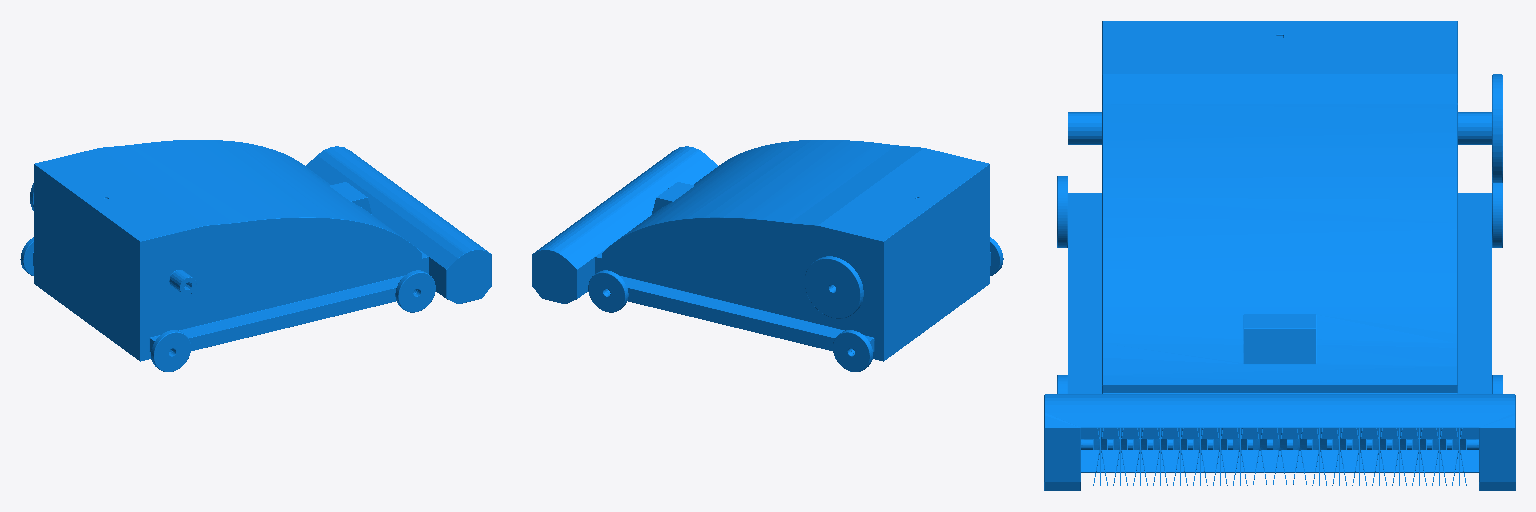
robot.urdf — tracked_mower:
<?xml version="1.0" ?>
<!-- =================================================================================== -->
<!-- |    This document was autogenerated by xacro from src/mower_bot_description/urdf/robot.urdf.xacro | -->
<!-- |    EDITING THIS FILE BY HAND IS NOT RECOMMENDED                                 | -->
<!-- =================================================================================== -->
<robot name="tracked_mower">
  <link name="base_footprint"/>
  <joint name="base_joint" type="fixed">
    <parent link="base_footprint"/>
    <child link="base_link"/>
    <origin rpy="0 0 0" xyz="0 0 0.15"/>
  </joint>
  <link name="base_link">
    <visual name="base_visual">
      <origin xyz="0 0 0"/>
      <geometry>
        <!--box size="${base_x} ${base_y} ${base_z}"/-->
        <mesh filename="package://mower_bot_description/meshes/Car.stl"/>
      </geometry>
      <material name="color">
        <color rgba="0.1 0.6 1.0 1.0"/>
      </material>
    </visual>
    <collision>
      <geometry>
        <box size="0.5 0.24 0.14"/>
      </geometry>
    </collision>
    <inertial>
      <mass value="13.14"/>
      <inertia ixx="0.084534" ixy="0" ixz="0" iyy="0.295212" iyz="0" izz="0.33682199999999995"/>
    </inertial>
  </link>
  <link name="front_left_wheel">
    <visual>
      <geometry>
        <cylinder length="0.05" radius="0.05"/>
      </geometry>
      <material name="transparent">
        <color rgba="0 0 1 0.3"/>
      </material>
    </visual>
    <collision>
      <geometry>
        <sphere radius="0.05"/>
      </geometry>
      <surface>
        <friction>
          <ode>
            <mu>0.0</mu>
            <mu2>0.0</mu2>
            <slip1>1.0</slip1>
            <slip2>1.0</slip2>
          </ode>
        </friction>
      </surface>
    </collision>
    <inertial>
      <mass value="0.5"/>
      <inertia ixx="0.001" ixy="0" ixz="0" iyy="0.001" iyz="0" izz="0.001"/>
    </inertial>
  </link>
  <joint name="front_left_wheel_joint" type="continuous">
    <parent link="base_link"/>
    <child link="front_left_wheel"/>
    <origin rpy="-1.5708 0 0" xyz="0.2 0.2 -0.1"/>
    <axis xyz="0 0 1"/>
  </joint>
  <link name="mid_left_wheel">
    <visual>
      <geometry>
        <cylinder length="0.05" radius="0.05"/>
      </geometry>
      <material name="transparent">
        <color rgba="0 0 1 0.3"/>
      </material>
    </visual>
    <collision>
      <geometry>
        <sphere radius="0.05"/>
      </geometry>
      <surface>
        <friction>
          <ode>
            <mu>0.0</mu>
            <mu2>0.0</mu2>
            <slip1>1.0</slip1>
            <slip2>1.0</slip2>
          </ode>
        </friction>
      </surface>
    </collision>
    <inertial>
      <mass value="0.5"/>
      <inertia ixx="0.001" ixy="0" ixz="0" iyy="0.001" iyz="0" izz="0.001"/>
    </inertial>
  </link>
  <joint name="mid_left_wheel_joint" type="continuous">
    <parent link="base_link"/>
    <child link="mid_left_wheel"/>
    <origin rpy="-1.5708 0 0" xyz="0.0 0.2 -0.1"/>
    <axis xyz="0 0 1"/>
  </joint>
  <link name="rear_left_wheel">
    <visual>
      <geometry>
        <cylinder length="0.05" radius="0.05"/>
      </geometry>
      <material name="transparent">
        <color rgba="1 0 0 0.3"/>
      </material>
    </visual>
    <collision>
      <geometry>
        <cylinder length="0.05" radius="0.05"/>
      </geometry>
      <surface>
        <friction>
          <ode>
            <mu>2.0</mu>
            <mu2>0.5</mu2>
            <fdir1>1 0 0</fdir1>
            <slip1>0.0</slip1>
            <slip2>0.0</slip2>
          </ode>
        </friction>
        <contact>
          <ode>
            <kp>10000000.0</kp>
            <kd>1.0</kd>
          </ode>
        </contact>
      </surface>
    </collision>
    <inertial>
      <mass value="2.0"/>
      <inertia ixx="0.01" ixy="0" ixz="0" iyy="0.01" iyz="0" izz="0.01"/>
    </inertial>
  </link>
  <joint name="rear_left_wheel_joint" type="continuous">
    <parent link="base_link"/>
    <child link="rear_left_wheel"/>
    <origin rpy="-1.5708 0 0" xyz="-0.2 0.2 -0.1"/>
    <axis xyz="0 0 1"/>
  </joint>
  <link name="front_right_wheel">
    <visual>
      <geometry>
        <cylinder length="0.05" radius="0.05"/>
      </geometry>
      <material name="transparent">
        <color rgba="0 0 1 0.3"/>
      </material>
    </visual>
    <collision>
      <geometry>
        <sphere radius="0.05"/>
      </geometry>
      <surface>
        <friction>
          <ode>
            <mu>0.0</mu>
            <mu2>0.0</mu2>
            <slip1>1.0</slip1>
            <slip2>1.0</slip2>
          </ode>
        </friction>
      </surface>
    </collision>
    <inertial>
      <mass value="0.5"/>
      <inertia ixx="0.001" ixy="0" ixz="0" iyy="0.001" iyz="0" izz="0.001"/>
    </inertial>
  </link>
  <joint name="front_right_wheel_joint" type="continuous">
    <parent link="base_link"/>
    <child link="front_right_wheel"/>
    <origin rpy="-1.5708 0 0" xyz="0.2 -0.2 -0.1"/>
    <axis xyz="0 0 1"/>
  </joint>
  <link name="mid_right_wheel">
    <visual>
      <geometry>
        <cylinder length="0.05" radius="0.05"/>
      </geometry>
      <material name="transparent">
        <color rgba="0 0 1 0.3"/>
      </material>
    </visual>
    <collision>
      <geometry>
        <sphere radius="0.05"/>
      </geometry>
      <surface>
        <friction>
          <ode>
            <mu>0.0</mu>
            <mu2>0.0</mu2>
            <slip1>1.0</slip1>
            <slip2>1.0</slip2>
          </ode>
        </friction>
      </surface>
    </collision>
    <inertial>
      <mass value="0.5"/>
      <inertia ixx="0.001" ixy="0" ixz="0" iyy="0.001" iyz="0" izz="0.001"/>
    </inertial>
  </link>
  <joint name="mid_right_wheel_joint" type="continuous">
    <parent link="base_link"/>
    <child link="mid_right_wheel"/>
    <origin rpy="-1.5708 0 0" xyz="0.0 -0.2 -0.1"/>
    <axis xyz="0 0 1"/>
  </joint>
  <link name="rear_right_wheel">
    <visual>
      <geometry>
        <cylinder length="0.05" radius="0.05"/>
      </geometry>
      <material name="transparent">
        <color rgba="1 0 0 0.3"/>
      </material>
    </visual>
    <collision>
      <geometry>
        <cylinder length="0.05" radius="0.05"/>
      </geometry>
      <surface>
        <friction>
          <ode>
            <mu>2.0</mu>
            <mu2>0.5</mu2>
            <fdir1>1 0 0</fdir1>
            <slip1>0.0</slip1>
            <slip2>0.0</slip2>
          </ode>
        </friction>
        <contact>
          <ode>
            <kp>10000000.0</kp>
            <kd>1.0</kd>
          </ode>
        </contact>
      </surface>
    </collision>
    <inertial>
      <mass value="2.0"/>
      <inertia ixx="0.01" ixy="0" ixz="0" iyy="0.01" iyz="0" izz="0.01"/>
    </inertial>
  </link>
  <joint name="rear_right_wheel_joint" type="continuous">
    <parent link="base_link"/>
    <child link="rear_right_wheel"/>
    <origin rpy="-1.5708 0 0" xyz="-0.2 -0.2 -0.1"/>
    <axis xyz="0 0 1"/>
  </joint>
  <link name="left_track_visual">
    <visual>
      <geometry>
        <box size="0.5 0.1 0.18"/>
      </geometry>
      <material name="black">
        <color rgba="0.1 0.1 0.1 1.0"/>
      </material>
    </visual>
    <collision>
      <origin xyz="0 0 0.05"/>
      <geometry>
        <box size="0.5 0.1 0.15"/>
      </geometry>
    </collision>
    <inertial>
      <mass value="2.0"/>
      <inertia ixx="0.01" ixy="0" ixz="0" iyy="0.01" iyz="0" izz="0.01"/>
    </inertial>
  </link>
  <joint name="left_track_joint" type="fixed">
    <parent link="base_link"/>
    <child link="left_track_visual"/>
    <origin rpy="0 0 0" xyz="0 0.2 0"/>
  </joint>
  <link name="right_track_visual">
    <visual>
      <geometry>
        <box size="0.5 0.1 0.18"/>
      </geometry>
      <material name="black">
        <color rgba="0.1 0.1 0.1 1.0"/>
      </material>
    </visual>
    <collision>
      <origin xyz="0 0 0.05"/>
      <geometry>
        <box size="0.5 0.1 0.15"/>
      </geometry>
    </collision>
    <inertial>
      <mass value="2.0"/>
      <inertia ixx="0.01" ixy="0" ixz="0" iyy="0.01" iyz="0" izz="0.01"/>
    </inertial>
  </link>
  <joint name="right_track_joint" type="fixed">
    <parent link="base_link"/>
    <child link="right_track_visual"/>
    <origin rpy="0 0 0" xyz="0 -0.2 0"/>
  </joint>
  <link name="lidar_link">
    <visual>
      <geometry>
        <cylinder length="0.04" radius="0.05"/>
      </geometry>
      <material name="red">
        <color rgba="1 0 0 1.0"/>
      </material>
    </visual>
    <collision>
      <geometry>
        <cylinder length="0.04" radius="0.05"/>
      </geometry>
    </collision>
    <inertial>
      <mass value="0.1"/>
      <inertia ixx="0.0001" ixy="0" ixz="0" iyy="0.0001" iyz="0" izz="0.0001"/>
    </inertial>
  </link>
  <joint name="lidar_mount_joint" type="fixed">
    <parent link="base_link"/>
    <child link="lidar_link"/>
    <origin rpy="0 0 0" xyz="0.1 0 0.15"/>
  </joint>
  <link name="laser_frame">
    <visual>
      <geometry>
        <box size="0.01 0.01 0.01"/>
      </geometry>
      <material name="black"/>
    </visual>
  </link>
  <joint name="laser_joint" type="fixed">
    <parent link="lidar_link"/>
    <child link="laser_frame"/>
    <origin rpy="0 0 0" xyz="0 0 0.03"/>
  </joint>
  <link name="imu_link"/>
  <joint name="imu_joint" type="fixed">
    <parent link="base_link"/>
    <child link="imu_link"/>
    <origin rpy="0 0 0" xyz="0 0 0"/>
  </joint>
  <gazebo reference="left_track_visual">
    <material>Gazebo/DarkGrey</material>
  </gazebo>
  <gazebo reference="right_track_visual">
    <material>Gazebo/DarkGrey</material>
  </gazebo>
  <gazebo reference="lidar_link">
    <material>Gazebo/Red</material>
  </gazebo>
  <gazebo reference="base_link">
    <visual>
      <material>
        <script>
          <uri>file://media/materials/scripts/gazebo.material</uri>
          <name>Gazebo/Orange</name>
        </script>
        <ambient>1.0 0.5 0.0 1.0</ambient>
        <diffuse>1.0 0.5 0.0 1.0</diffuse>
        <specular>0.1 0.1 0.1 1.0</specular>
        <emissive>0.0 0.0 0.0 0.0</emissive>
      </material>
    </visual>
  </gazebo>
  <gazebo>
    <plugin filename="libgazebo_ros_diff_drive.so" name="diff_drive">
      <ros>
        <namespace>/</namespace>
      </ros>
      <num_wheel_pairs>2</num_wheel_pairs>
      <left_joint>front_left_wheel_joint</left_joint>
      <left_joint>rear_left_wheel_joint</left_joint>
      <right_joint>front_right_wheel_joint</right_joint>
      <right_joint>rear_right_wheel_joint</right_joint>
      <wheel_separation>0.4</wheel_separation>
      <wheel_diameter>0.1</wheel_diameter>
      <max_wheel_torque>100</max_wheel_torque>
      <max_wheel_acceleration>2.0</max_wheel_acceleration>
      <publish_odom>true</publish_odom>
      <publish_odom_tf>true</publish_odom_tf>
      <publish_wheel_tf>false</publish_wheel_tf>
      <odometry_frame>odom</odometry_frame>
      <robot_base_frame>base_footprint</robot_base_frame>
    </plugin>
    <plugin filename="libgazebo_ros_joint_state_publisher.so" name="joint_state">
      <ros>
        <remapping>~/out:=joint_states</remapping>
      </ros>
      <update_rate>30</update_rate>
    </plugin>
  </gazebo>
  <gazebo reference="imu_link">
    <sensor name="imu_sensor" type="imu">
      <plugin filename="libgazebo_ros_imu_sensor.so" name="imu_plugin">
        <ros>
          <argument>~/out:=imu</argument>
        </ros>
        <frame_name>imu_link</frame_name>
      </plugin>
      <always_on>true</always_on>
      <update_rate>100</update_rate>
    </sensor>
  </gazebo>
  <gazebo reference="laser_frame">
    <sensor name="lidar" type="ray">
      <pose> 0 0 0 0 0 0 </pose>
      <always_on>true</always_on>
      <visualize>false</visualize>
      <!-- เปิด/ปิดเส้นlaser lidar-->
      <update_rate>10</update_rate>
      <ray>
        <scan>
          <horizontal>
            <samples>360</samples>
            <min_angle>-3.14</min_angle>
            <max_angle>3.14</max_angle>
          </horizontal>
        </scan>
        <range>
          <min>0.1</min>
          <max>12.0</max>
        </range>
      </ray>
      <plugin filename="libgazebo_ros_ray_sensor.so" name="laser_controller">
        <ros>
          <argument>~/out:=scan</argument>
        </ros>
        <output_type>sensor_msgs/LaserScan</output_type>
        <frame_name>laser_frame</frame_name>
      </plugin>
    </sensor>
  </gazebo>
</robot>

--- What the picture shows (computed from the rendered views, not written in the file) ---
The picture shows the robot from 3 angles, left to right: view 1: azimuth 30°, elevation 25°; view 2: azimuth 150°, elevation 25°; view 3: azimuth 270°, elevation 25°; orthographic projection.
Model tracked_mower with 13 links and 12 joints (6 continuous, 6 fixed), rooted at base_footprint, posed all joints at 0.
Links seen in each view (by area): view 1: base_link; view 2: base_link; view 3: base_link.
Link boxes in pixels (x1,y1,x2,y2): base_link: (20,140,491,371); base_link: (532,140,1003,371); base_link: (1044,21,1515,490).
Bounding box of the posed robot: 1.78 × 1.3 × 0.76 m (x, y, z).
Meshes: 1 distinct files referenced, 1 mesh visuals loaded (1 binary STL).
